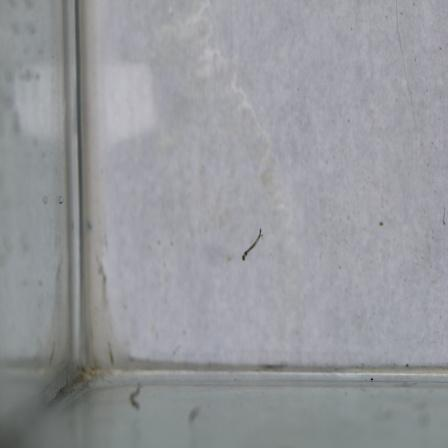Jentik-Nyamuk: (238, 223, 266, 263)
